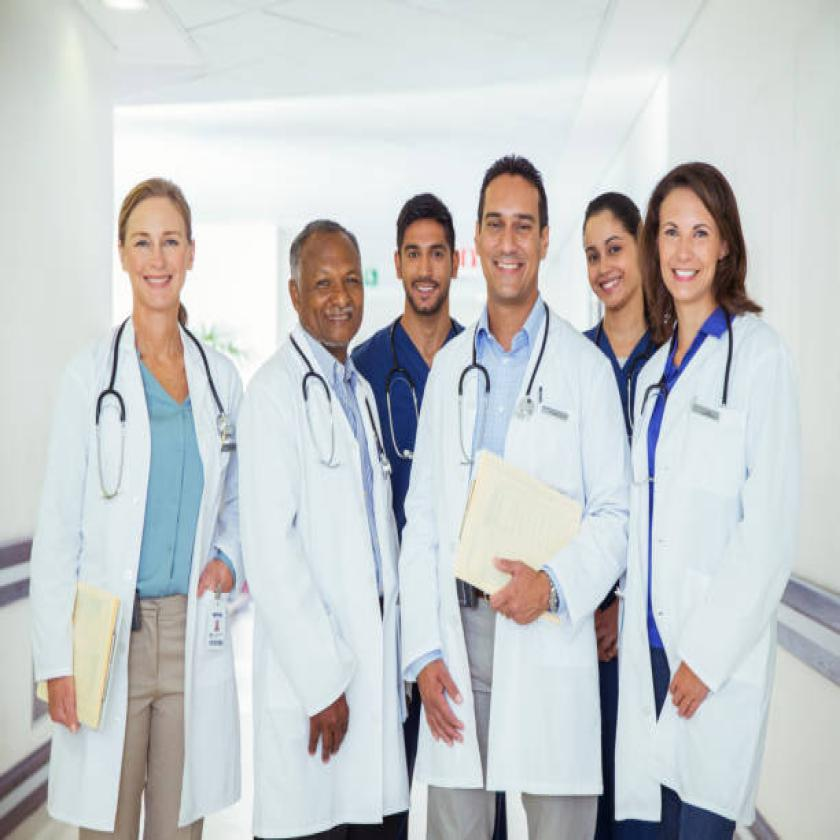Sin_casco: (634, 136, 761, 321), (97, 150, 208, 322), (471, 129, 557, 313), (390, 184, 473, 335), (282, 219, 369, 352), (570, 184, 641, 335)
